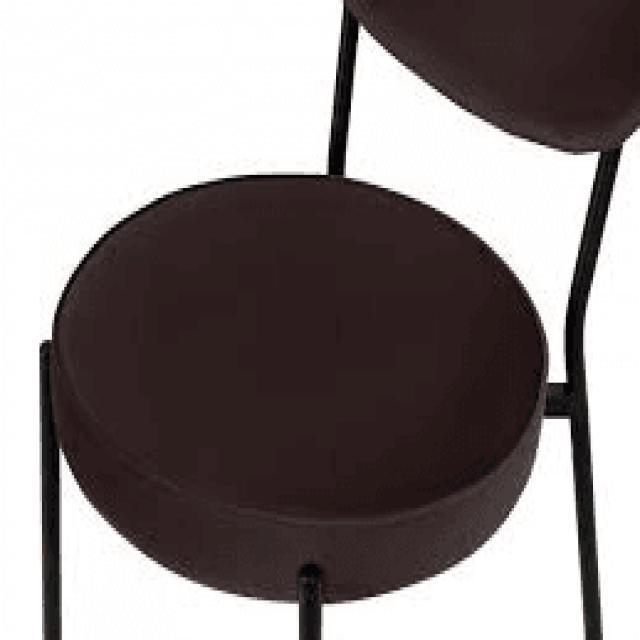chair: (30, 0, 640, 640), (28, 0, 640, 600)
